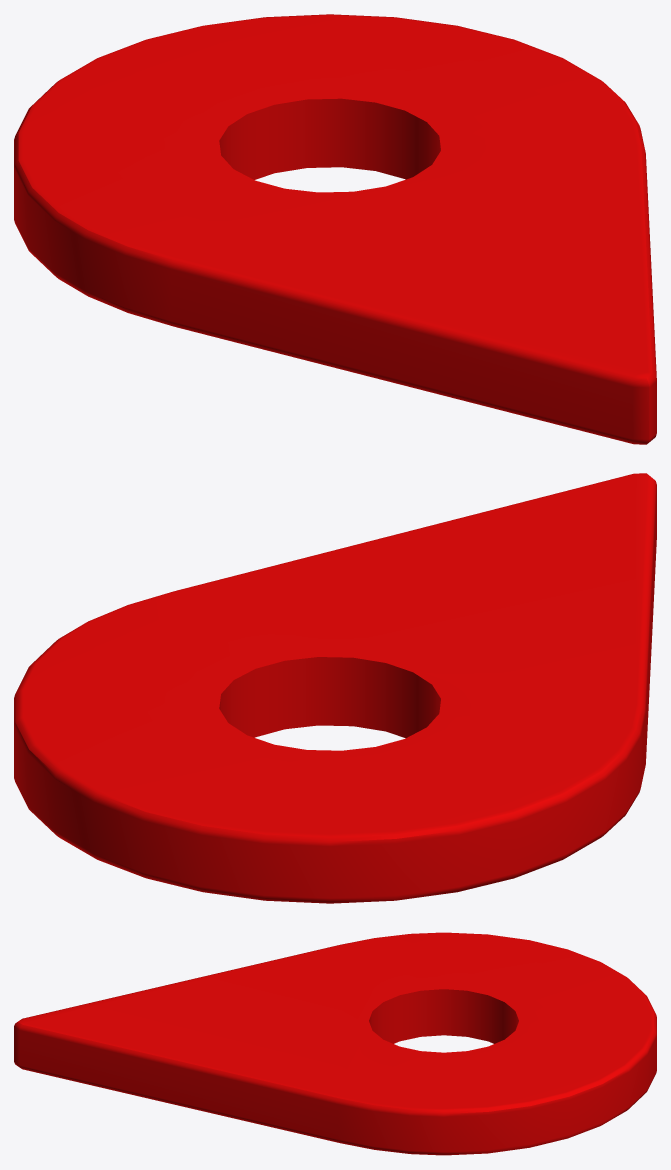
3 views of the same model, one above another, from view 1: azimuth 30°, elevation 25°; view 2: azimuth 150°, elevation 25°; view 3: azimuth 270°, elevation 25° (orthographic). The views are drawn at different scales.
Parts seen in each view (by area): view 1: Pin; view 2: Pin; view 3: Pin.
Part boxes in pixels (box(x1,y1,x2,y2)): Pin: box(14, 14, 656, 444); Pin: box(14, 473, 656, 903); Pin: box(14, 932, 656, 1155).
Bounding box in the file's own units: 0.02 × 0.00238 × 0.03.
